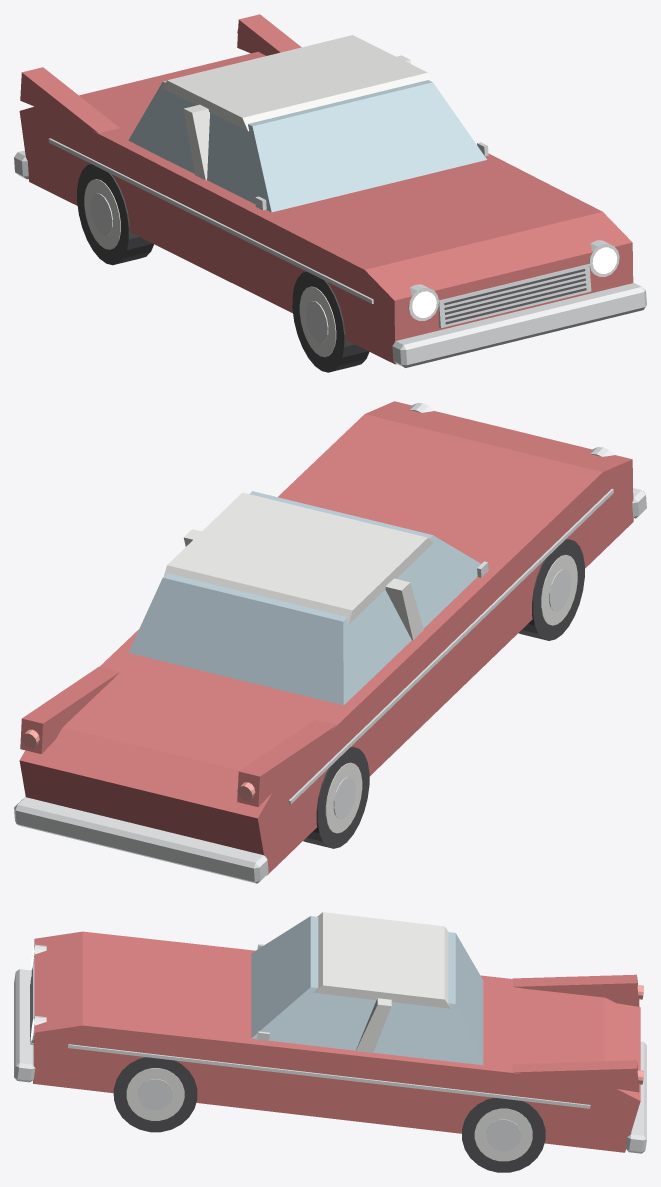
File: car_a.glb
3 renders of one model, top to bottom at view 1: azimuth 30°, elevation 25°; view 2: azimuth 150°, elevation 25°; view 3: azimuth 270°, elevation 25°, orthographic. The views are drawn at different scales.
Visible parts, largest first — view 1: car_a_car_a, car_a_glass, car_a_chrome, car_a_car_w, car_a_rubber, car_a_paint_w, car_a_dark, car_a_lamp_glass; view 2: car_a_car_a, car_a_glass, car_a_car_w, car_a_chrome, car_a_rubber, car_a_paint_w; view 3: car_a_car_a, car_a_glass, car_a_car_w, car_a_chrome, car_a_rubber, car_a_paint_w.
Boxes of the visible parts, x1,y1,x2,y2 form: car_a_car_a: (19, 14, 633, 364); car_a_glass: (128, 80, 486, 212); car_a_chrome: (14, 138, 646, 367); car_a_car_w: (163, 35, 431, 180); car_a_rubber: (77, 164, 369, 372); car_a_paint_w: (84, 179, 336, 357); car_a_dark: (444, 269, 586, 324); car_a_lamp_glass: (412, 247, 617, 317); car_a_car_a: (19, 401, 633, 875); car_a_glass: (128, 491, 480, 705); car_a_car_w: (164, 492, 433, 640); car_a_chrome: (14, 403, 646, 883); car_a_rubber: (303, 539, 584, 848); car_a_paint_w: (325, 555, 577, 833); car_a_car_a: (33, 931, 640, 1152); car_a_glass: (251, 916, 483, 1064); car_a_car_w: (313, 912, 451, 1053); car_a_chrome: (14, 944, 646, 1153); car_a_rubber: (113, 1057, 545, 1172); car_a_paint_w: (126, 1068, 532, 1161).
Bounding box in the file's own units: 1.96 × 1.66 × 5.41.
